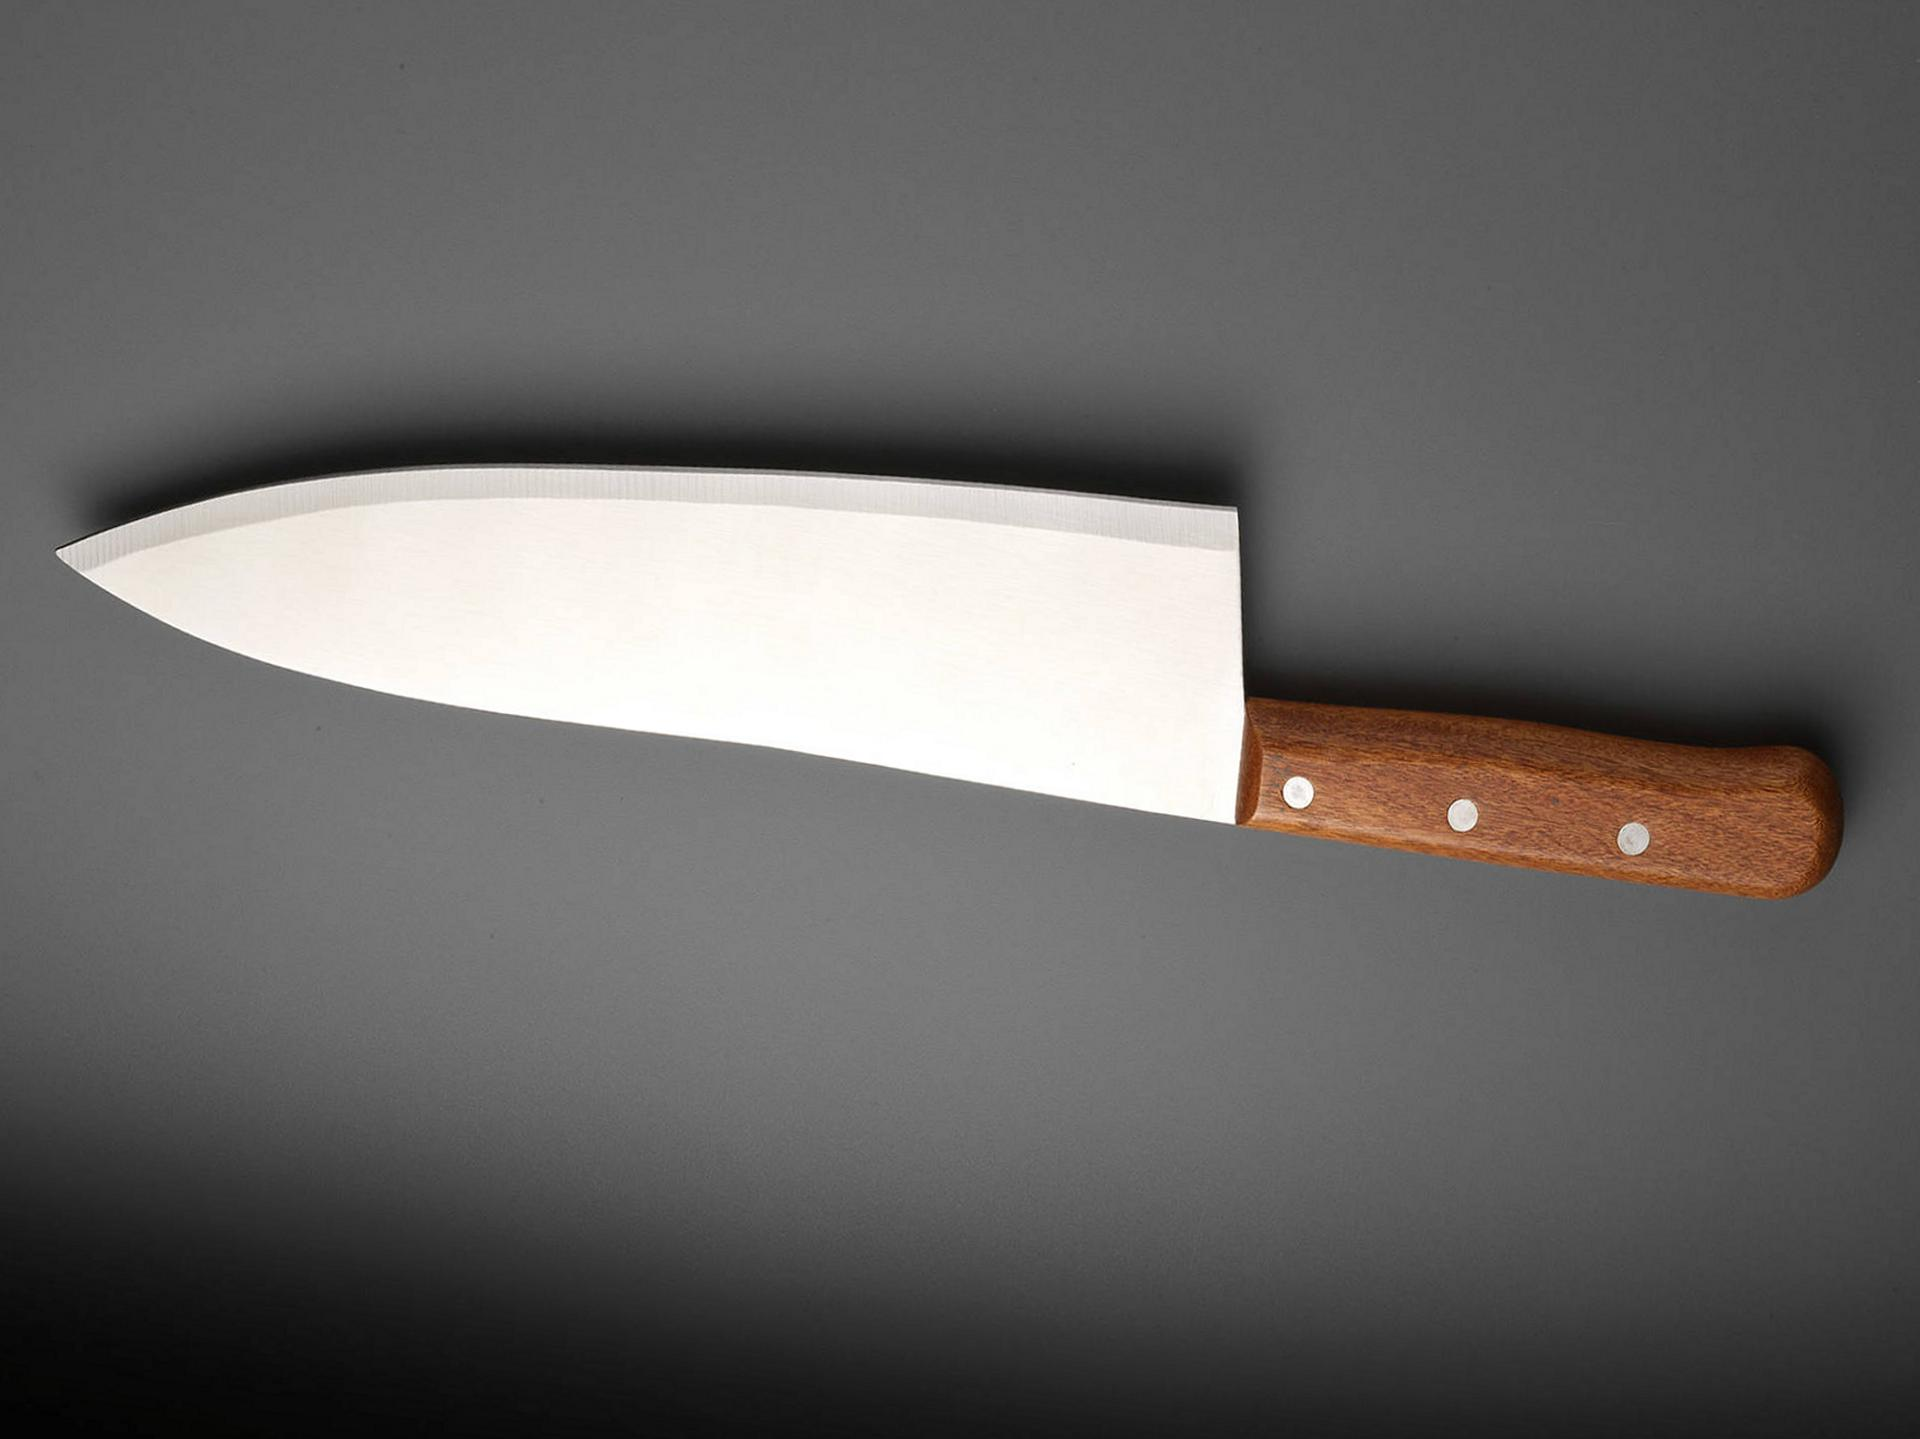knife: (47, 460, 1843, 901)
